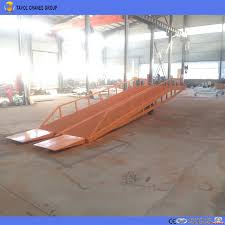Yard Ramp: (6, 75, 190, 153)
